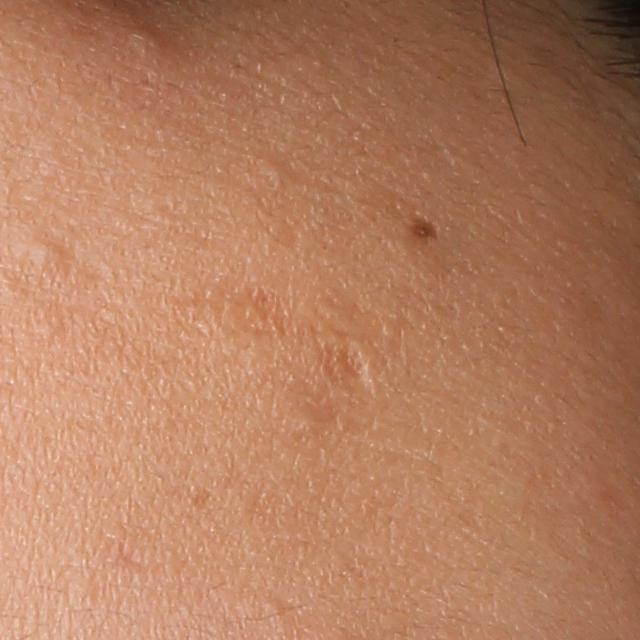atrophic_scar: (319, 340, 376, 396)
comedo: (29, 230, 69, 272), (257, 154, 292, 187), (130, 26, 166, 56)
nevus: (409, 209, 436, 242)
